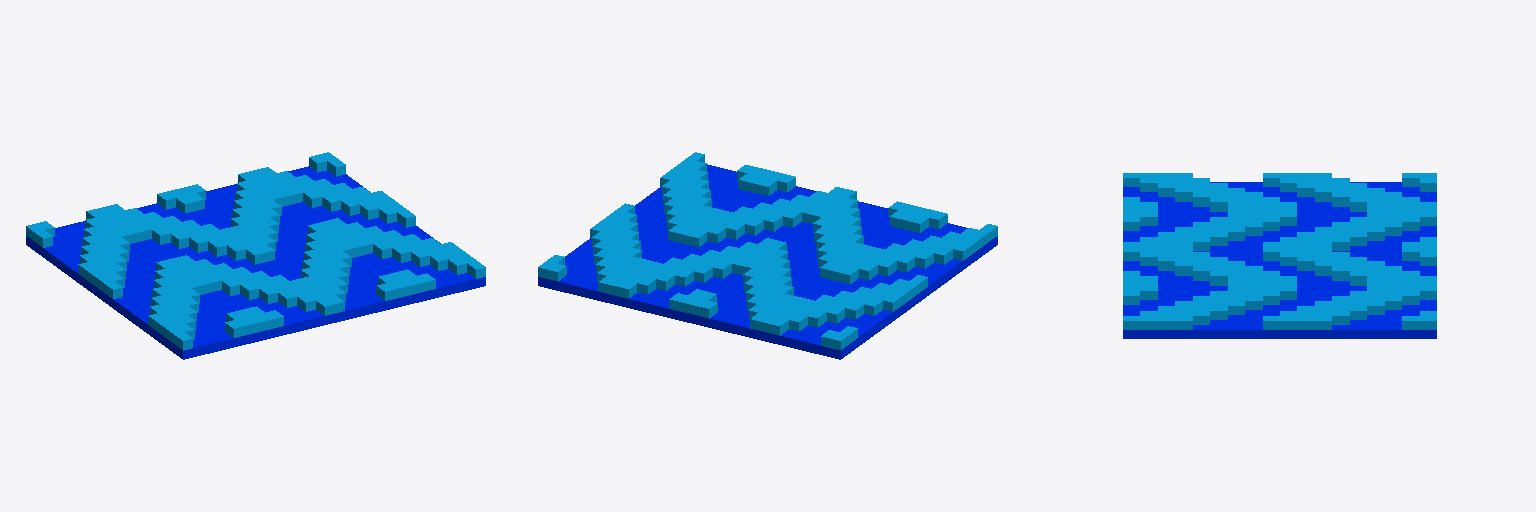
Rendered from boost.obj.
The picture shows the model from 3 angles: view 1: azimuth 30°, elevation 25°; view 2: azimuth 150°, elevation 25°; view 3: azimuth 270°, elevation 25°; orthographic projection.
Parts seen in each view (by area): view 1: Box002; view 2: Box002; view 3: Box002.
Boxes of the visible parts, x1=… form: Box002: x1=26, y1=152, x2=485, y2=359; Box002: x1=538, y1=152, x2=997, y2=359; Box002: x1=1123, y1=173, x2=1436, y2=338.
Bounding box in the file's own units: 1.48 × 0.087 × 1.33.